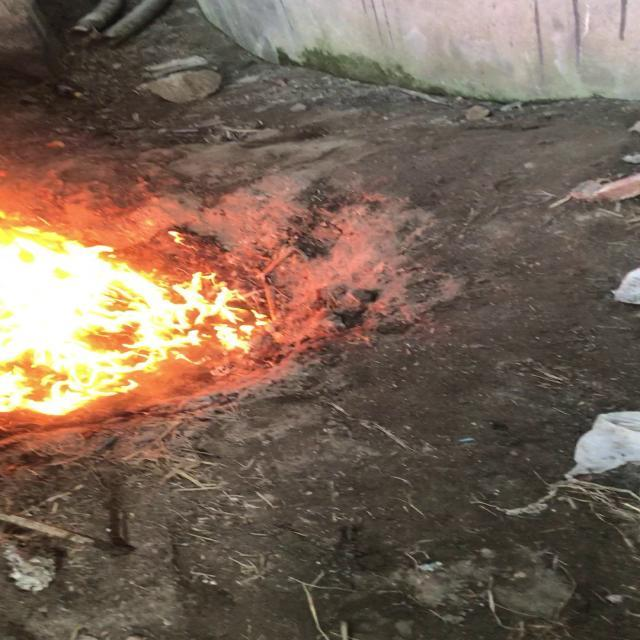Fire: (3, 219, 205, 410)
